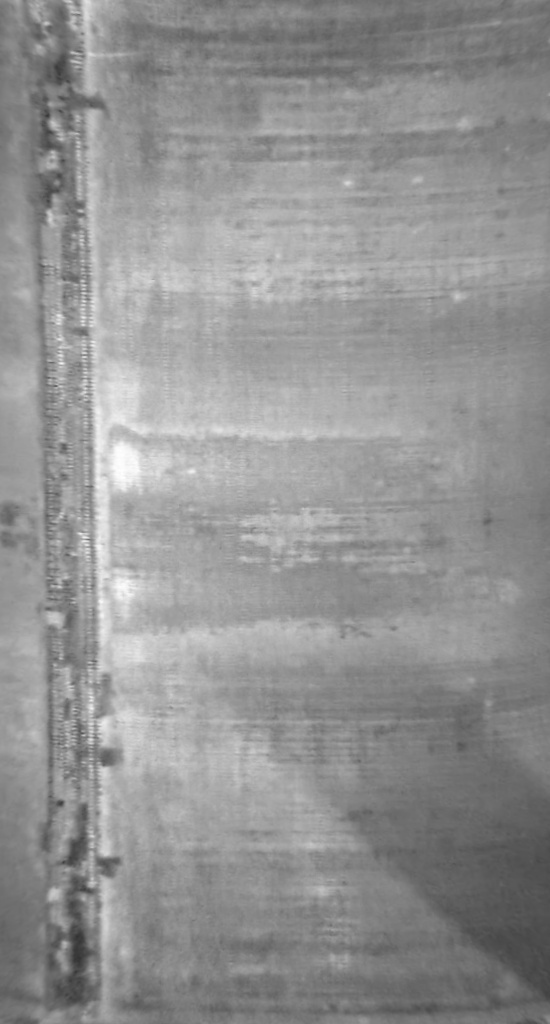splice: (17, 1, 109, 1024)
